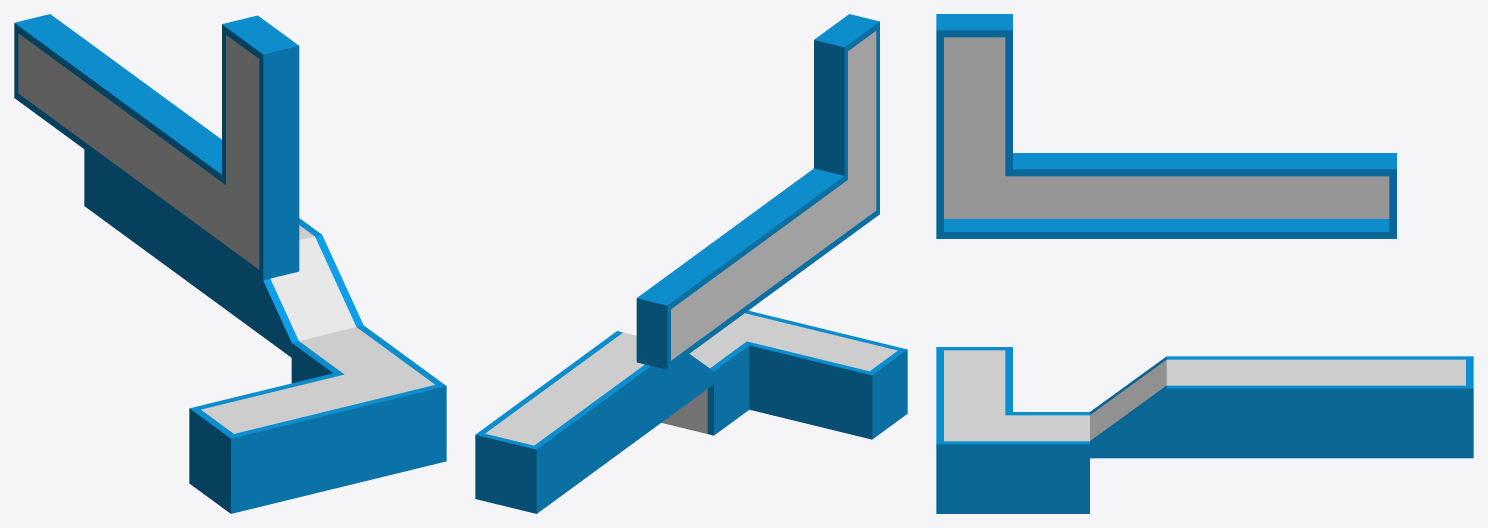
File: stage3.fbx
The picture shows the model from 3 angles, left to right: view 1: azimuth 30°, elevation 25°; view 2: azimuth 150°, elevation 25°; view 3: azimuth 270°, elevation 25°; orthographic projection. The views are drawn at different scales.
Visible parts, largest first — view 1: kado3d.003, 立方体.004, tyoku3d.006, 立方体.005, kado2d.005, elu2d.002, tyoku2d.007, tyoku2d.011, tyoku2d.009, tyoku2d.010, kado2d.006, tyoku2d.008 (+5 smaller); view 2: kado3d.003, kado3d.006, tyoku3d.006, kado2d.006, kado2d.005, tyoku3d.002, tyoku3d.007, tyoku3d.009, tyoku2d.007, tyoku2d.011, tyoku3d.008, tyoku2d.009 (+5 smaller); view 3: tyoku3d.008, tyoku3d.007, tyoku3d.009, kado3d.006, tyoku3d.002, 立方体.004, tyoku2d.010, tyoku2d.008, tyoku2d.009, tyoku2d.011, kado2d.006, elu2d.002 (+5 smaller).
Boxes of the visible parts, x1=… form: kado3d.003: x1=189, y1=391, x2=302, y2=513; 立方体.004: x1=333, y1=356, x2=446, y2=478; tyoku3d.006: x1=261, y1=373, x2=374, y2=496; 立方体.005: x1=250, y1=235, x2=363, y2=357; kado2d.005: x1=222, y1=15, x2=299, y2=129; elu2d.002: x1=222, y1=175, x2=299, y2=280; tyoku2d.007: x1=222, y1=100, x2=299, y2=204; tyoku2d.011: x1=55, y1=44, x2=132, y2=158; tyoku2d.009: x1=138, y1=105, x2=215, y2=218; tyoku2d.010: x1=97, y1=75, x2=174, y2=188; kado2d.006: x1=14, y1=14, x2=91, y2=127; tyoku2d.008: x1=180, y1=135, x2=221, y2=249; kado3d.003: x1=810, y1=334, x2=907, y2=439; kado3d.006: x1=475, y1=409, x2=572, y2=513; tyoku3d.006: x1=749, y1=319, x2=845, y2=424; kado2d.006: x1=636, y1=272, x2=702, y2=369; kado2d.005: x1=814, y1=14, x2=879, y2=111; tyoku3d.002: x1=661, y1=336, x2=749, y2=435; tyoku3d.007: x1=511, y1=383, x2=607, y2=487; tyoku3d.009: x1=546, y1=357, x2=642, y2=461; tyoku2d.007: x1=814, y1=86, x2=879, y2=175; tyoku2d.011: x1=672, y1=246, x2=738, y2=343; tyoku3d.008: x1=582, y1=331, x2=678, y2=435; tyoku2d.009: x1=743, y1=194, x2=808, y2=291; tyoku3d.008: x1=1166, y1=356, x2=1243, y2=458; tyoku3d.007: x1=1320, y1=356, x2=1396, y2=458; tyoku3d.009: x1=1243, y1=356, x2=1319, y2=458; kado3d.006: x1=1397, y1=356, x2=1473, y2=458; tyoku3d.002: x1=1013, y1=412, x2=1089, y2=513; 立方体.004: x1=936, y1=412, x2=1012, y2=513; tyoku2d.010: x1=1166, y1=153, x2=1243, y2=238; tyoku2d.008: x1=1013, y1=153, x2=1089, y2=238; tyoku2d.009: x1=1090, y1=153, x2=1166, y2=238; tyoku2d.011: x1=1243, y1=153, x2=1319, y2=238; kado2d.006: x1=1320, y1=153, x2=1396, y2=238; elu2d.002: x1=936, y1=156, x2=1012, y2=238.
Size of the model in its own units: 6000 by 12000 by 14000.
